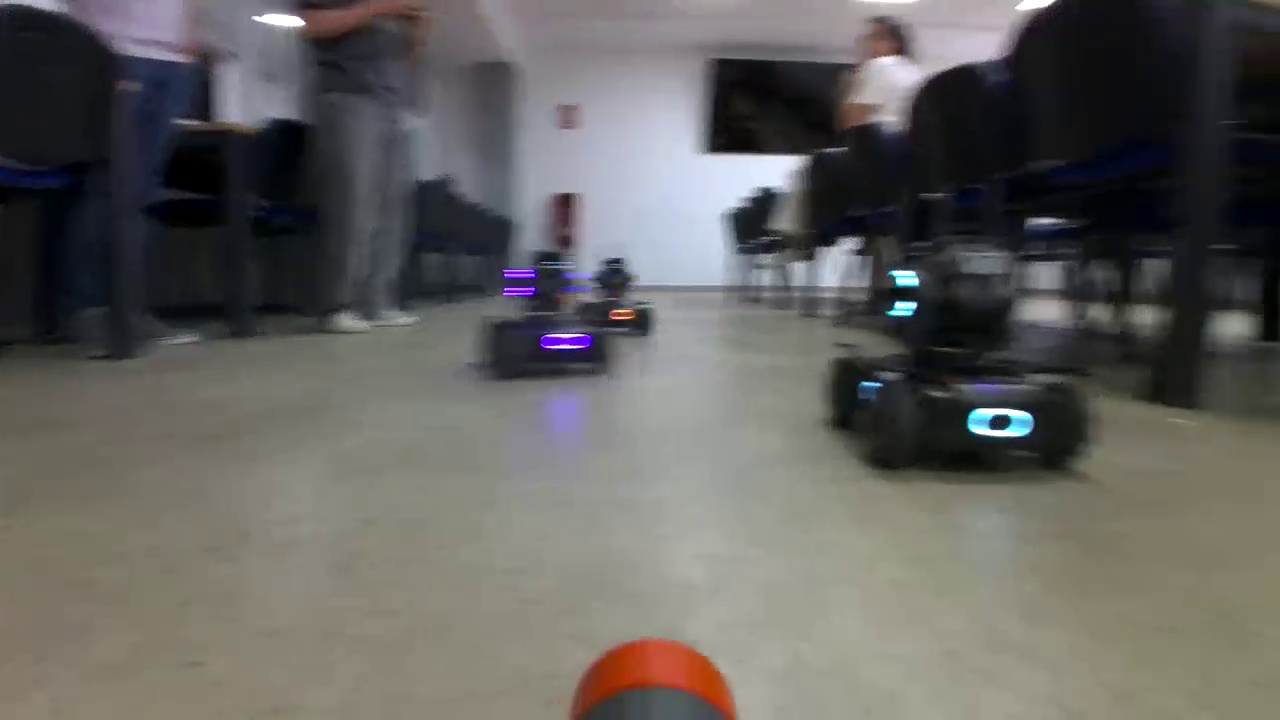robot: (825, 270, 1092, 472), (478, 255, 605, 378), (595, 258, 655, 335)
